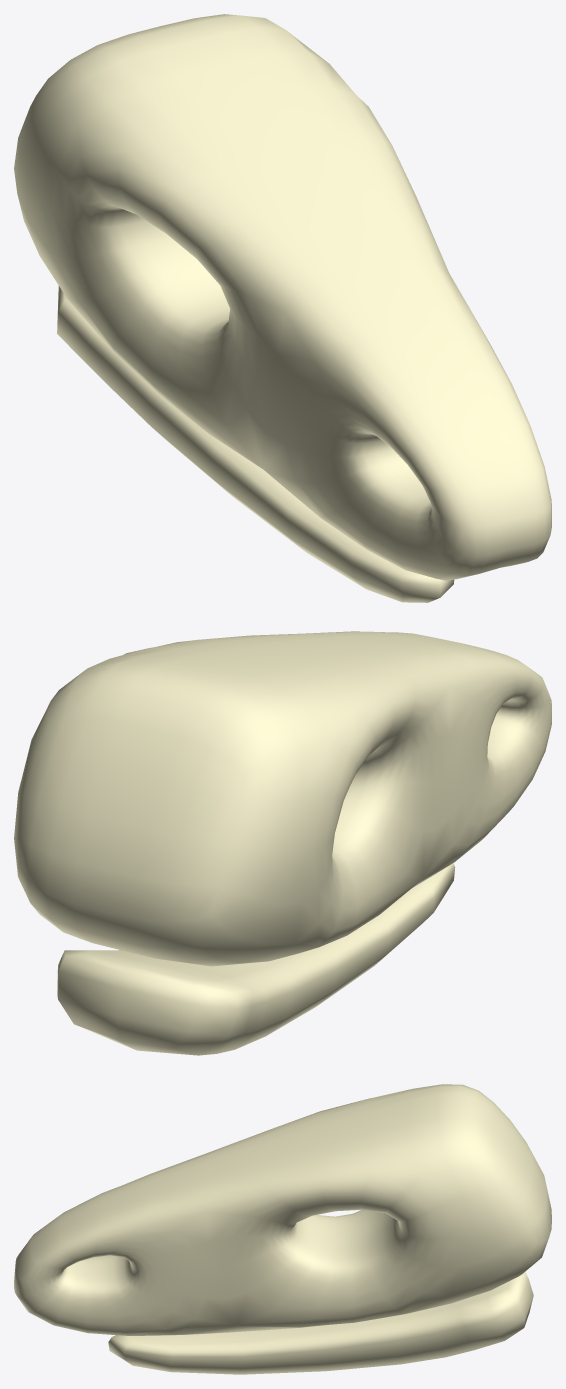
File: head.glb
3 renders of one model, top to bottom at view 1: azimuth 30°, elevation 25°; view 2: azimuth 150°, elevation 25°; view 3: azimuth 270°, elevation 25°, orthographic. The views are drawn at different scales.
Parts seen in each view (by area): view 1: head, Cube.041; view 2: head, Cube.041; view 3: head, Cube.041.
Part boxes in pixels (x1,y1,x2,y2): head: (14,14,551,580); Cube.041: (57,286,454,602); head: (14,631,551,966); Cube.041: (57,863,455,1055); head: (14,1084,551,1335); Cube.041: (108,1272,533,1374).
Bounding box in the file's own units: 0.1806 × 0.2507 × 0.464.
Materials: 1 (1 with a texture image).
